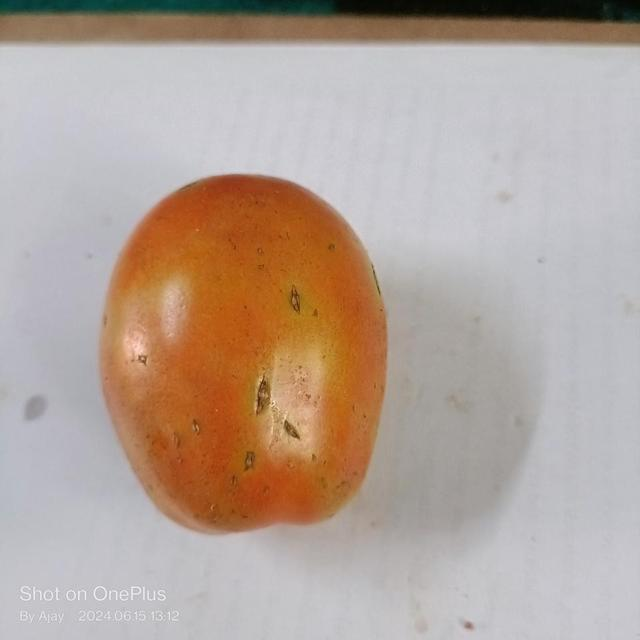Bacterial Spot Fruit: (12, 15, 198, 305)
